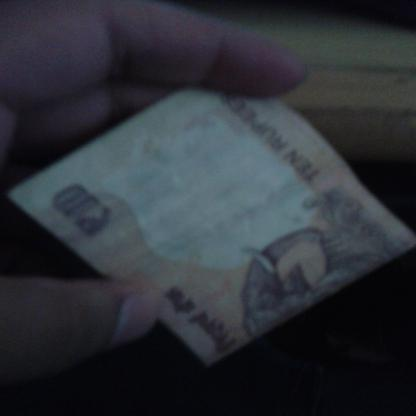Old10Back: (8, 88, 416, 368)
